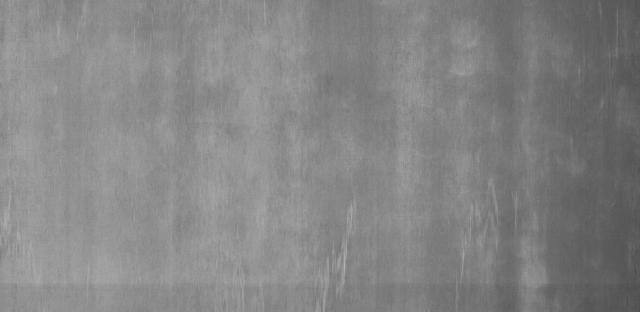silk_spot: (446, 191, 522, 300), (295, 197, 362, 307)
